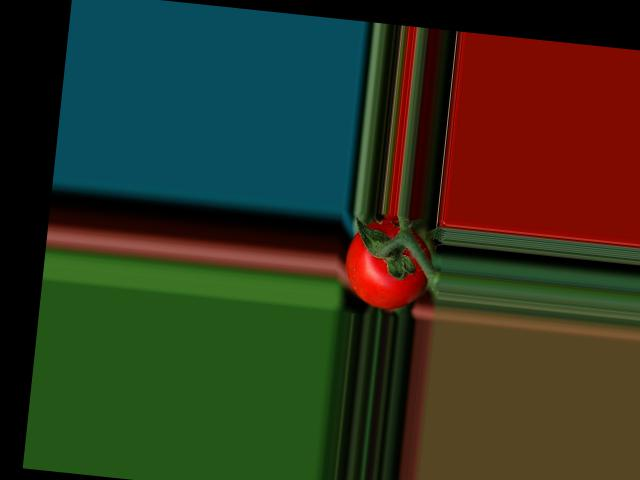tomato: (341, 212, 436, 312)
